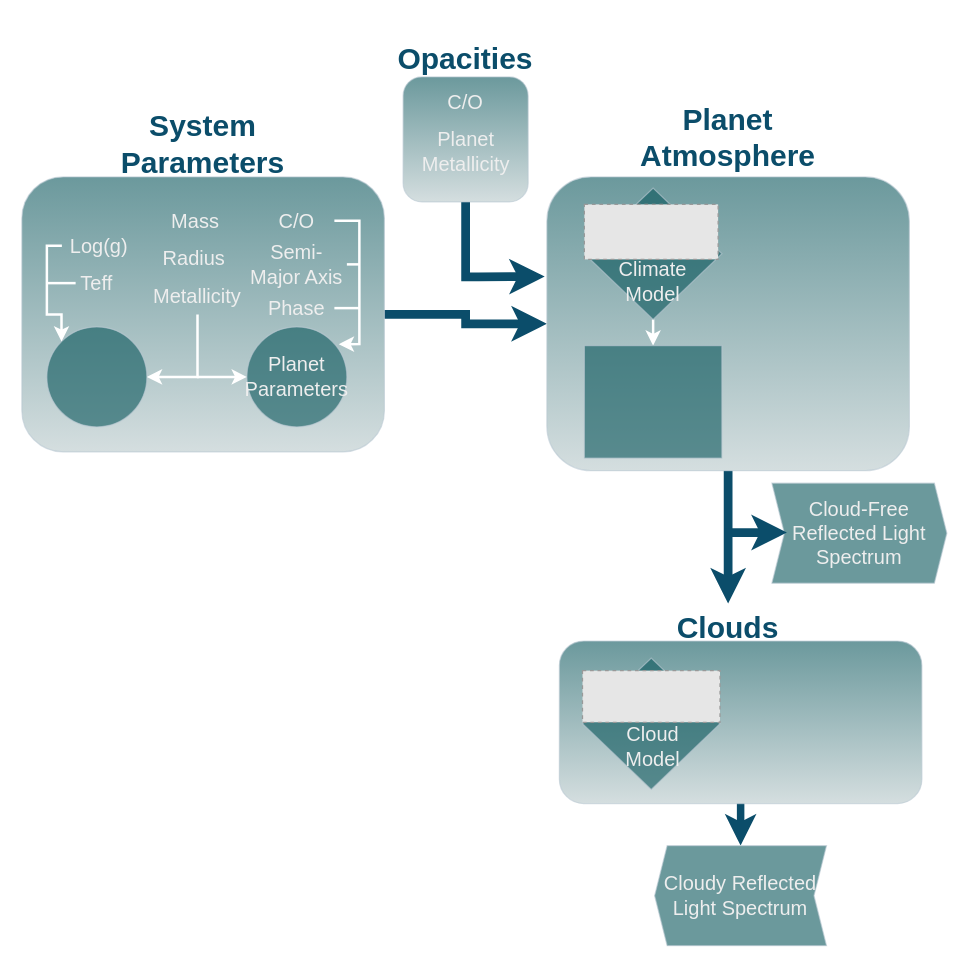
Image size: 969x968. Some labels were removed from this diagram. Grey dashed boxes stand in for pictures. The shapes that lost their labels are listed below. From the top down, each one's centre as x and y in pixels, then its label:
point 96,376: Stellar Parameters
point 652,401: P(T) Profile Molecular Abundances
